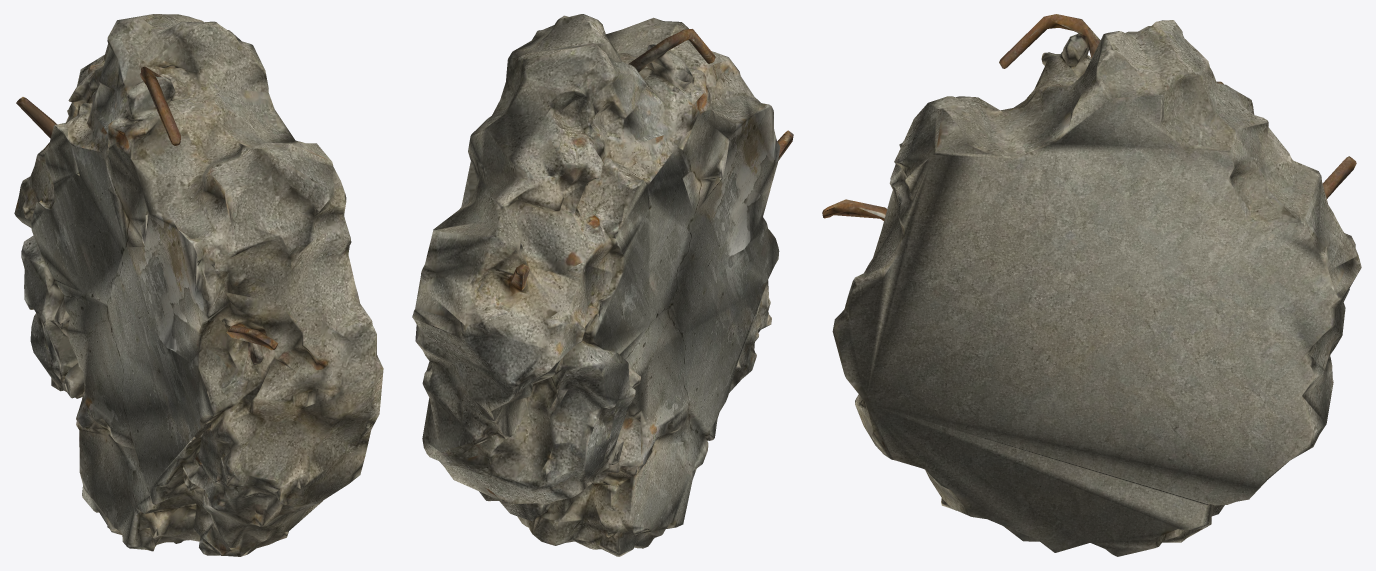
File: boulder.glb
The picture shows the model from 3 angles, left to right: view 1: azimuth 30°, elevation 25°; view 2: azimuth 150°, elevation 25°; view 3: azimuth 270°, elevation 25°; orthographic projection. The views are drawn at different scales.
Visible parts, largest first — view 1: boulder; view 2: boulder; view 3: boulder.
Part boxes in pixels (x1,y1,x2,y2): boulder: (14, 14, 383, 556); boulder: (412, 14, 793, 556); boulder: (822, 14, 1361, 556).
Size of the model in its own units: 0.3027 by 0.9001 by 0.8462.
Materials: 1 (1 with a texture image).
